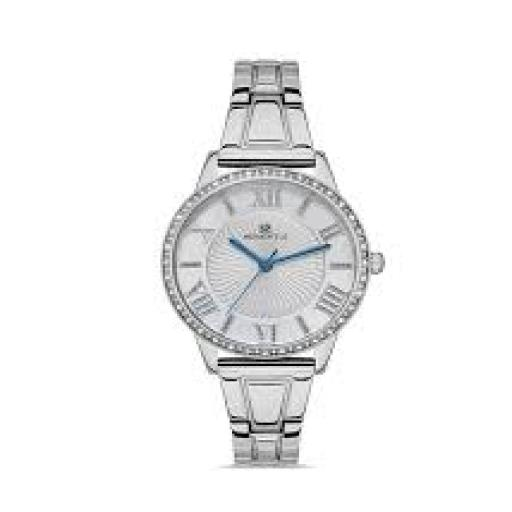KolSaati: (150, 38, 399, 492)
